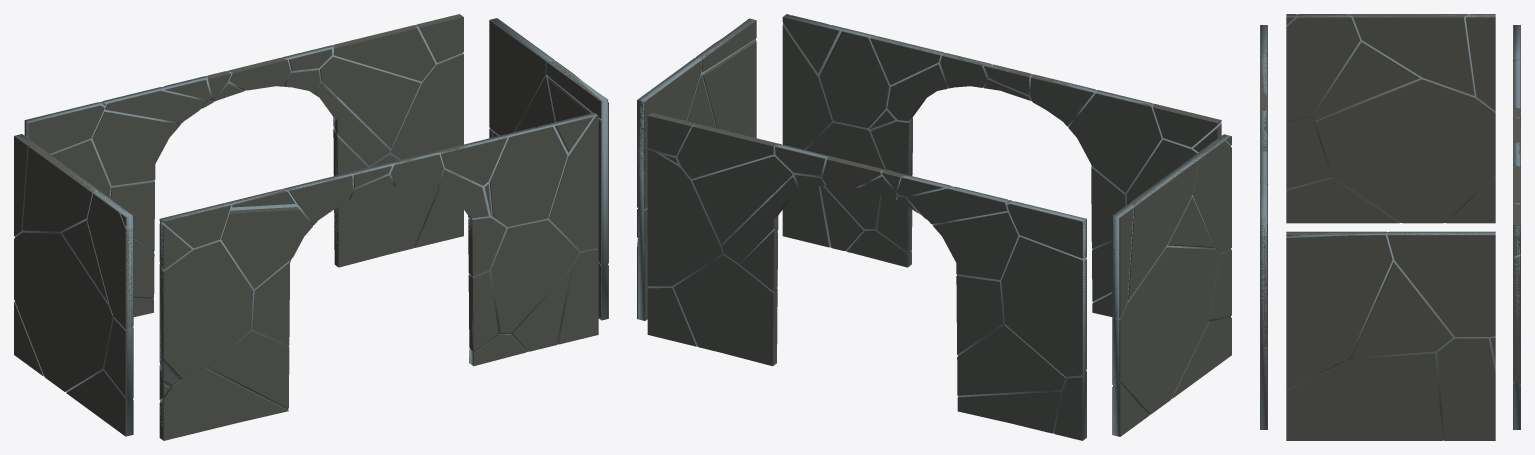
Rendered from ArchSmlStones.fbx.
3 renders of one model, left to right at view 1: azimuth 30°, elevation 25°; view 2: azimuth 150°, elevation 25°; view 3: azimuth 270°, elevation 25°, orthographic. The views are drawn at different scales.
Parts seen in each view (by area): view 1: ArchSmlStones; view 2: ArchSmlStones; view 3: ArchSmlStones.
Part boxes in pixels (left/top/right/bottom): ArchSmlStones: left=14, top=14, right=608, bottom=440; ArchSmlStones: left=637, top=14, right=1231, bottom=440; ArchSmlStones: left=1260, top=14, right=1520, bottom=440.
Bounding box in the file's own units: 600 × 299 × 261.
